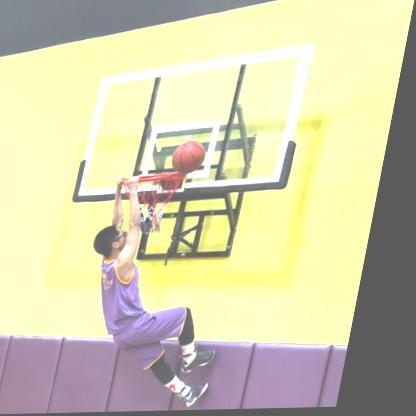basketball: (177, 142, 215, 174)
rim: (122, 176, 191, 235)
